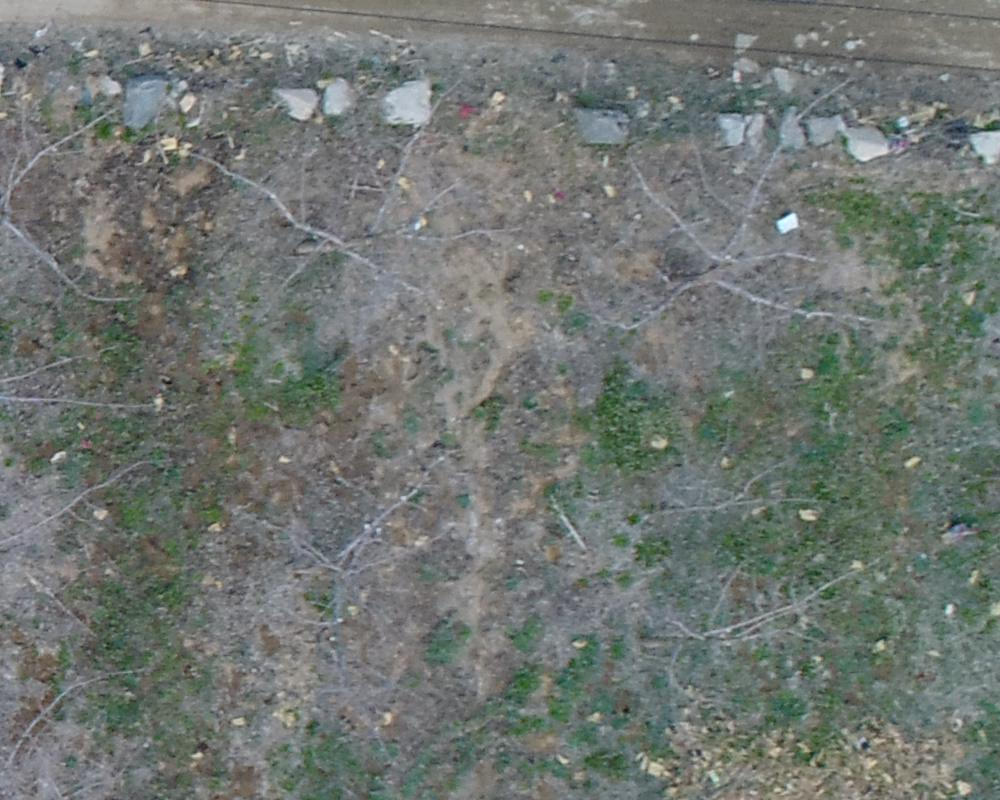apple: (574, 117, 891, 360), (183, 131, 500, 313), (241, 458, 506, 641), (10, 426, 157, 666), (10, 84, 132, 319), (10, 297, 146, 455)
